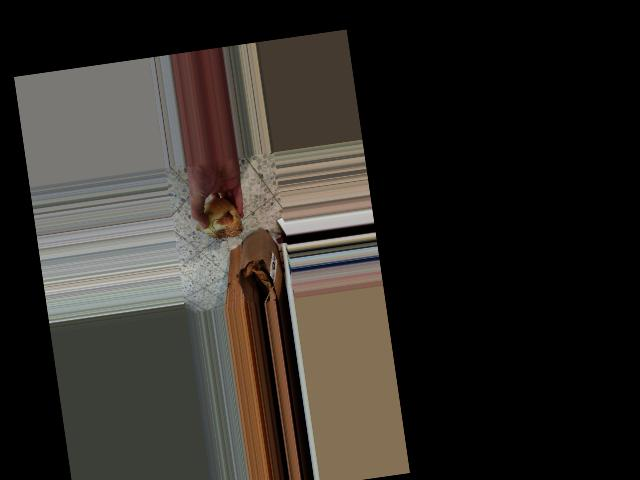onion: (191, 192, 245, 243)
